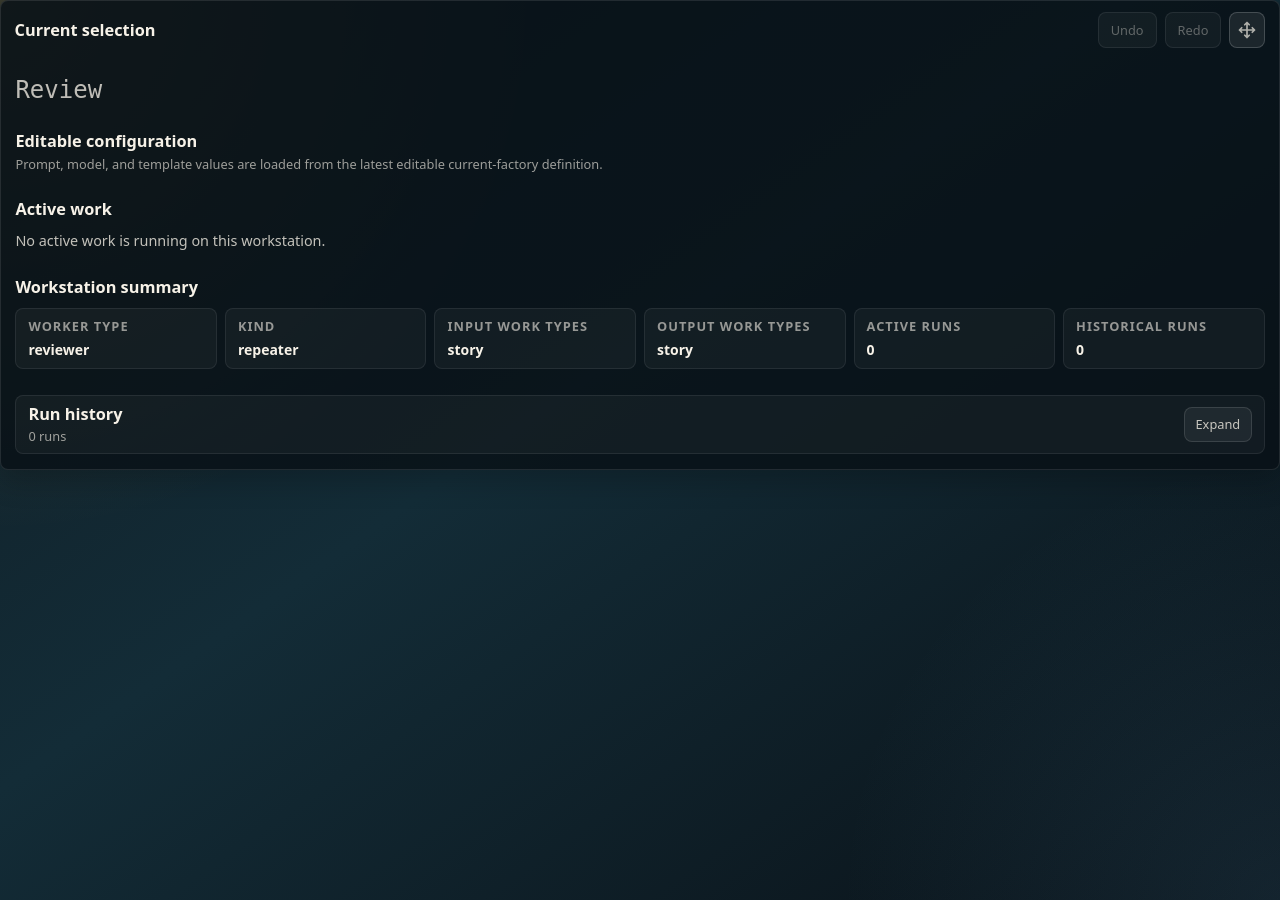
it: WorkstationDetailCard › falls back to English workstation-detail copy for unsupported locales
Expected: the heading "Active work" is shown, [15, 198, 112, 220]
Expected: the heading "Workstation summary" is shown, [15, 276, 198, 298]
Click the button "Expand" at [1218, 424], box [1184, 407, 1252, 442]
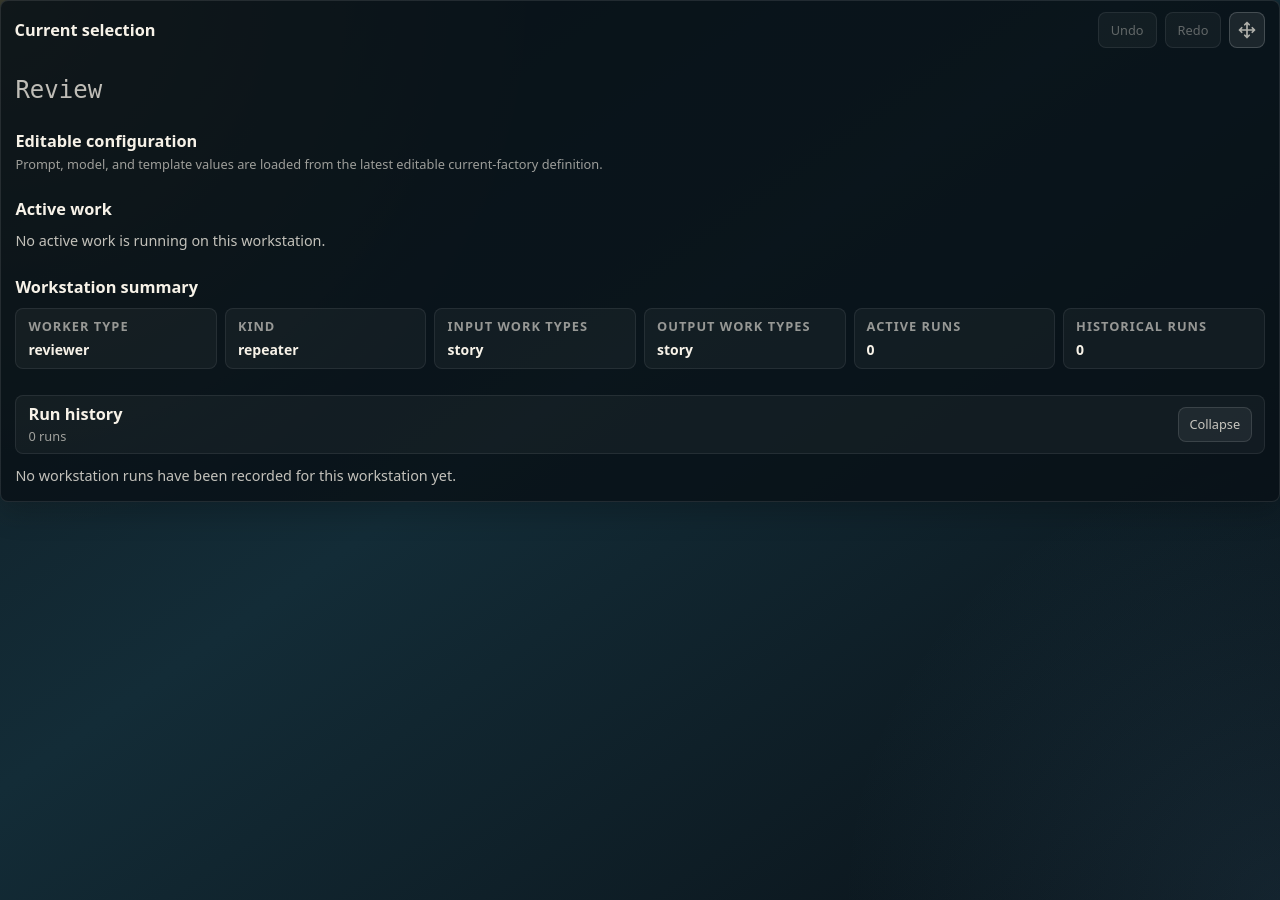
Expected: the text "No workstation runs have been recorded for this workstation yet." is shown, [15, 466, 456, 485]
